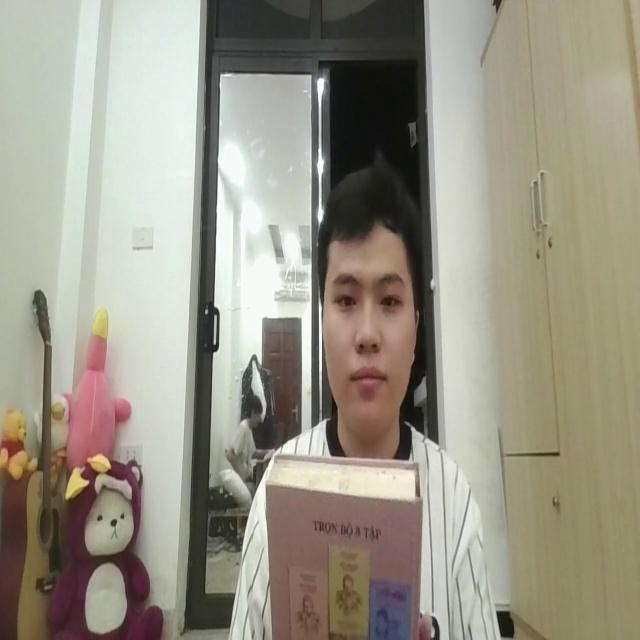book: (266, 443, 425, 640)
student: (235, 139, 500, 640)
